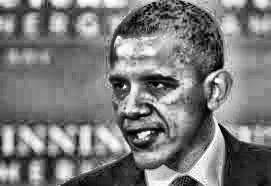angry: (108, 0, 225, 170)
